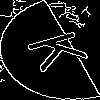K: (25, 25, 100, 73)
